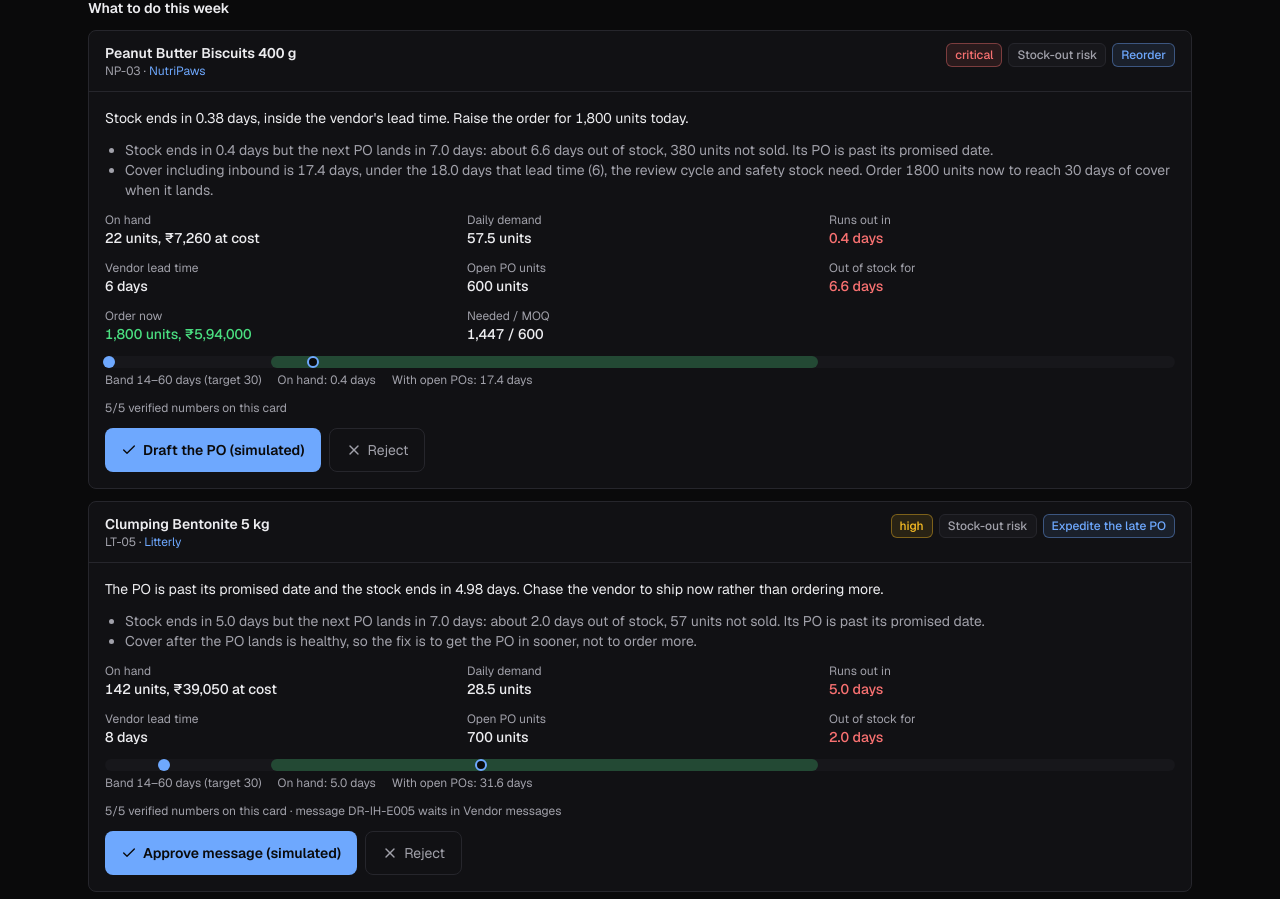
Scenario: InventoryHealthPage › approves a reorder and shows the PO draft
(page scrolled)
Click the button with aria-label "Draft the PO (simulated) NP-03" at coordinates (213, 450), box [105,428,320,472]
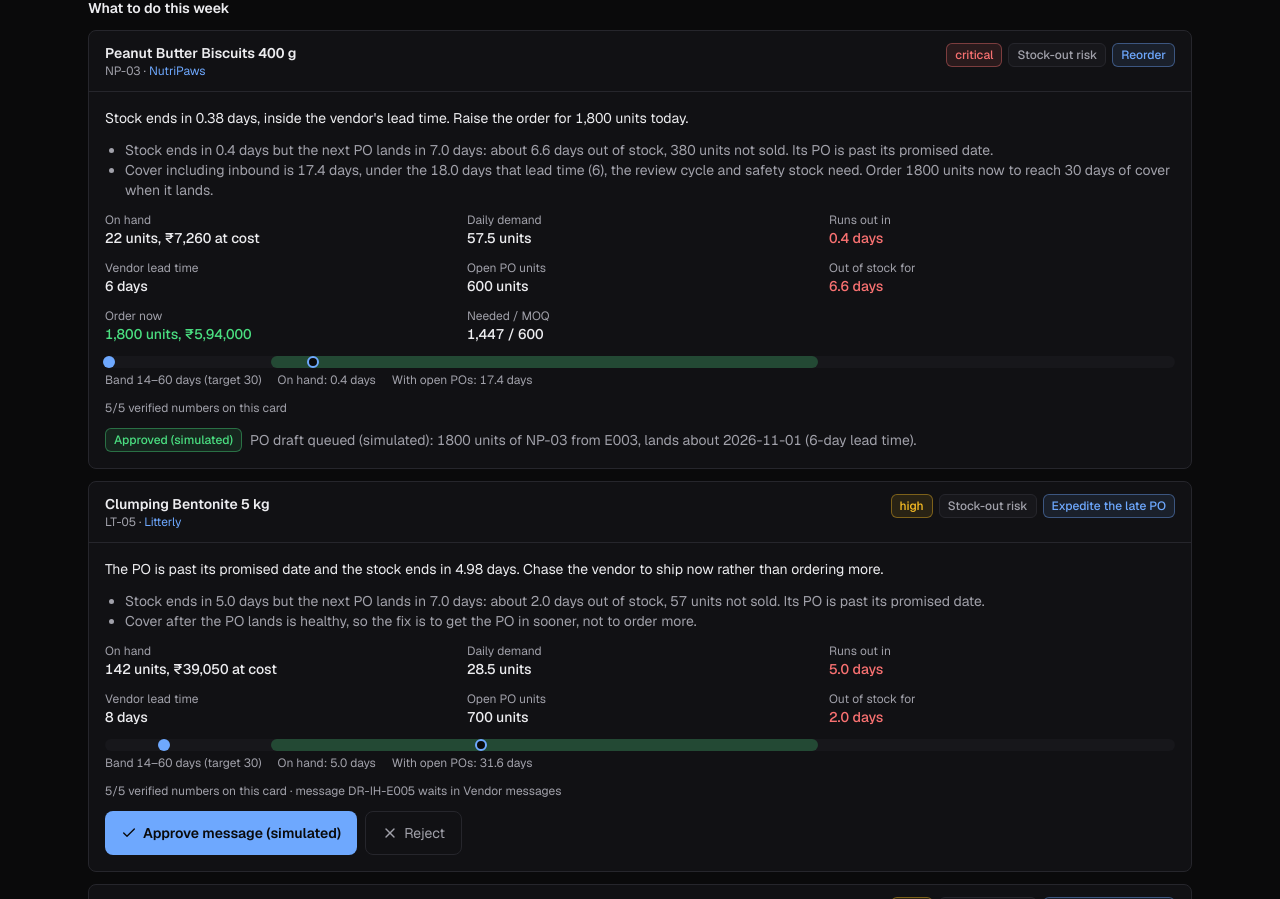
Expected: the button "Draft the PO" is not shown
Now the text "PO draft queued (simulated): 1800 units of NP-03" is shown, box [250,431,916,449]
